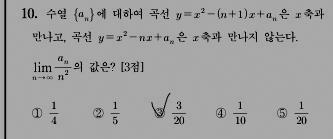choice: (151, 100, 166, 120)
not-choice: (29, 105, 43, 119), (91, 105, 105, 119), (214, 106, 227, 120), (275, 106, 288, 120)
